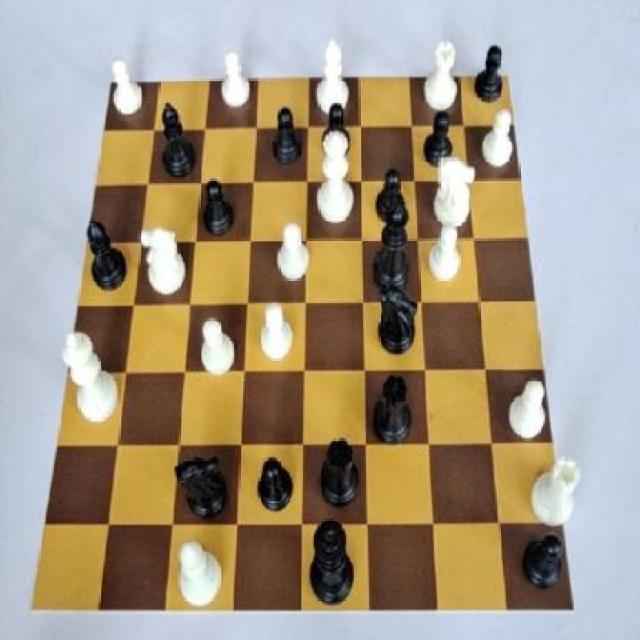bishop: (83, 216, 132, 296), (155, 100, 200, 185)
black-bishop: (304, 511, 358, 614)
black-king: (170, 448, 236, 527), (375, 278, 418, 368)
black-knight: (248, 446, 300, 522), (520, 530, 565, 602), (372, 156, 413, 234), (420, 104, 459, 178), (469, 38, 508, 112), (266, 100, 304, 172), (200, 172, 238, 240), (318, 92, 354, 162)
black-pawn: (370, 198, 416, 300)
black-queen: (369, 371, 421, 447), (315, 436, 363, 512)
black-rook: (174, 534, 226, 617), (311, 31, 356, 120)
white-bishop: (61, 324, 126, 434)
white-king: (140, 223, 190, 308), (434, 146, 476, 235)
white-knight: (503, 371, 550, 454), (269, 214, 317, 289), (426, 214, 466, 290), (197, 308, 238, 380), (257, 296, 299, 364), (110, 54, 148, 127), (216, 44, 252, 120), (481, 106, 517, 176)
white-pawn: (312, 131, 361, 233)
white-queen: (528, 448, 583, 530), (420, 37, 464, 115)
